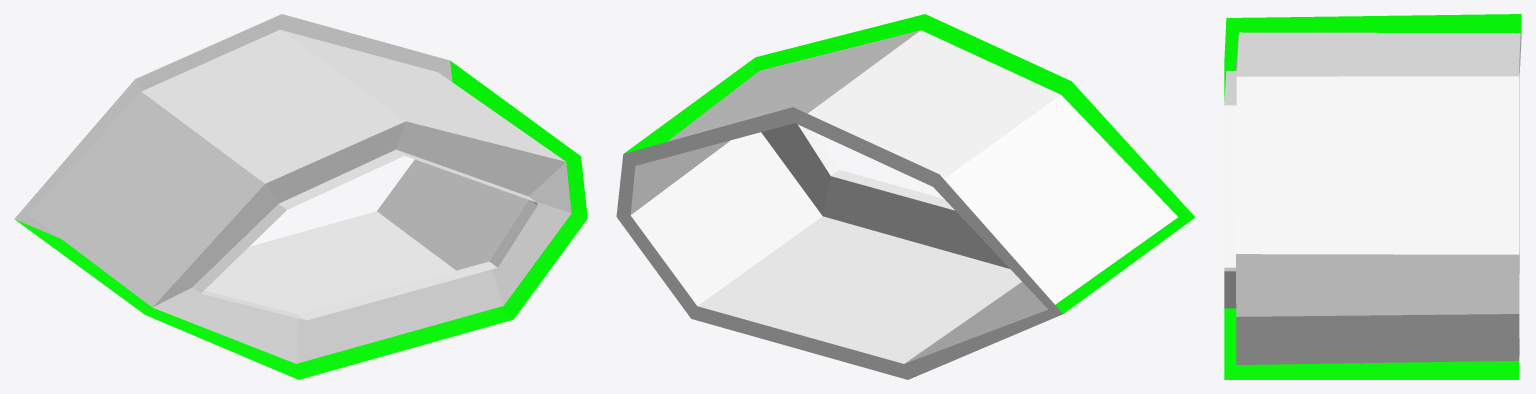
The model's file is eyelid.gltf.
3 renders of one model, left to right at view 1: azimuth 30°, elevation 25°; view 2: azimuth 150°, elevation 25°; view 3: azimuth 270°, elevation 25°, orthographic. The views are drawn at different scales.
Visible parts, largest first — view 1: Eyelid; view 2: Eyelid; view 3: Eyelid.
Boxes of the visible parts, box(x1,y1,x2,y2) form: Eyelid: box(14, 14, 587, 379); Eyelid: box(616, 14, 1195, 379); Eyelid: box(1224, 14, 1521, 379).
Bounding box in the file's own units: 127 × 66.21 × 65.32.
